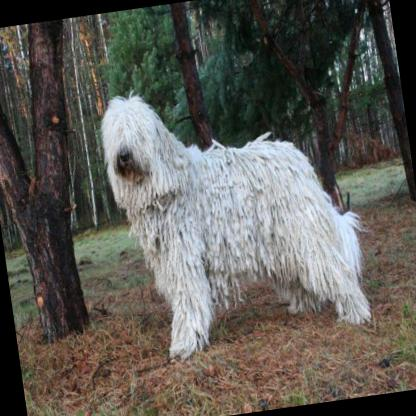komondor: (90, 50, 381, 375)
